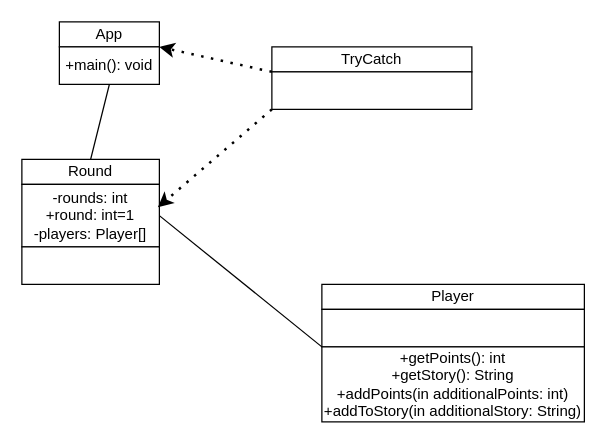
This 606x444 diagram has some shape labels left out. Each missing label, with the box of its shape:
+PlayRound(): void: (21, 246, 159, 284)
+tryInt(in scan: Scanner): int: (271, 71, 472, 109)
-playerObjects: Object[][]: (321, 308, 584, 347)
